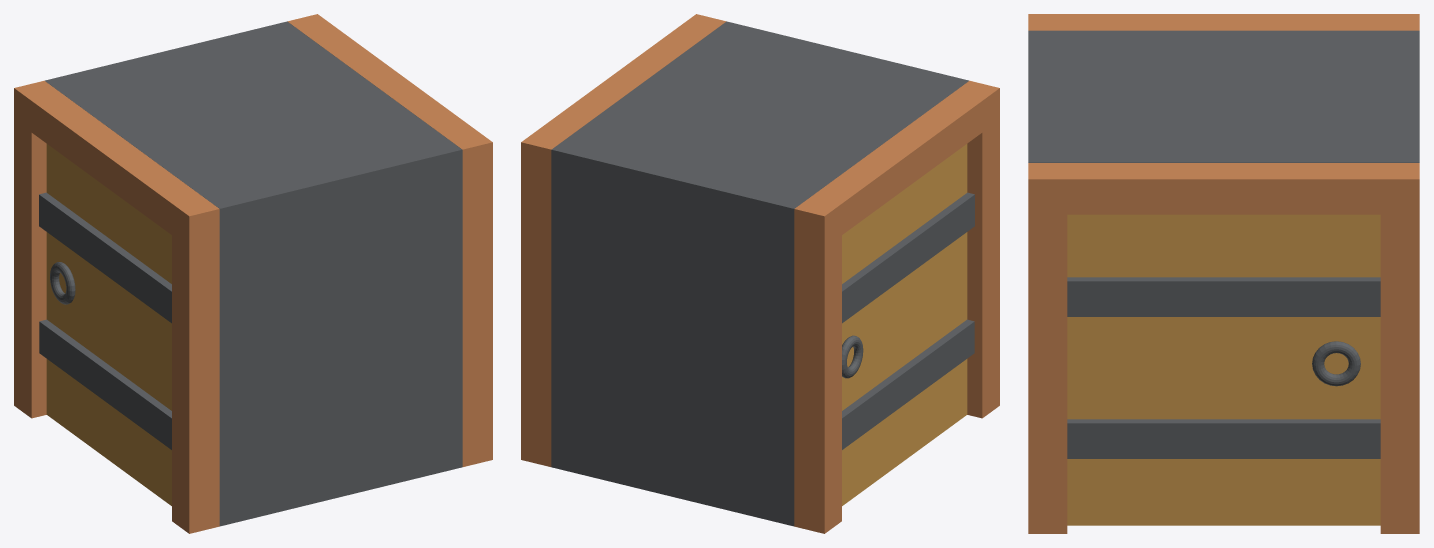
The model's file is gk-room-door.glb.
3 views of the same model, side by side, from view 1: azimuth 30°, elevation 25°; view 2: azimuth 150°, elevation 25°; view 3: azimuth 270°, elevation 25° (orthographic). The views are drawn at different scales.
Visible parts, largest first — view 1: Mesh_Mesh_head_geo.001_lambert2SG.001; view 2: Mesh_Mesh_head_geo.001_lambert2SG.001; view 3: Mesh_Mesh_head_geo.001_lambert2SG.001.
Part boxes in pixels (x1,y1,x2,y2): Mesh_Mesh_head_geo.001_lambert2SG.001: (14, 14, 492, 533); Mesh_Mesh_head_geo.001_lambert2SG.001: (521, 14, 999, 533); Mesh_Mesh_head_geo.001_lambert2SG.001: (1028, 14, 1419, 533).
Size of the model in its own units: 10 by 10 by 10.
